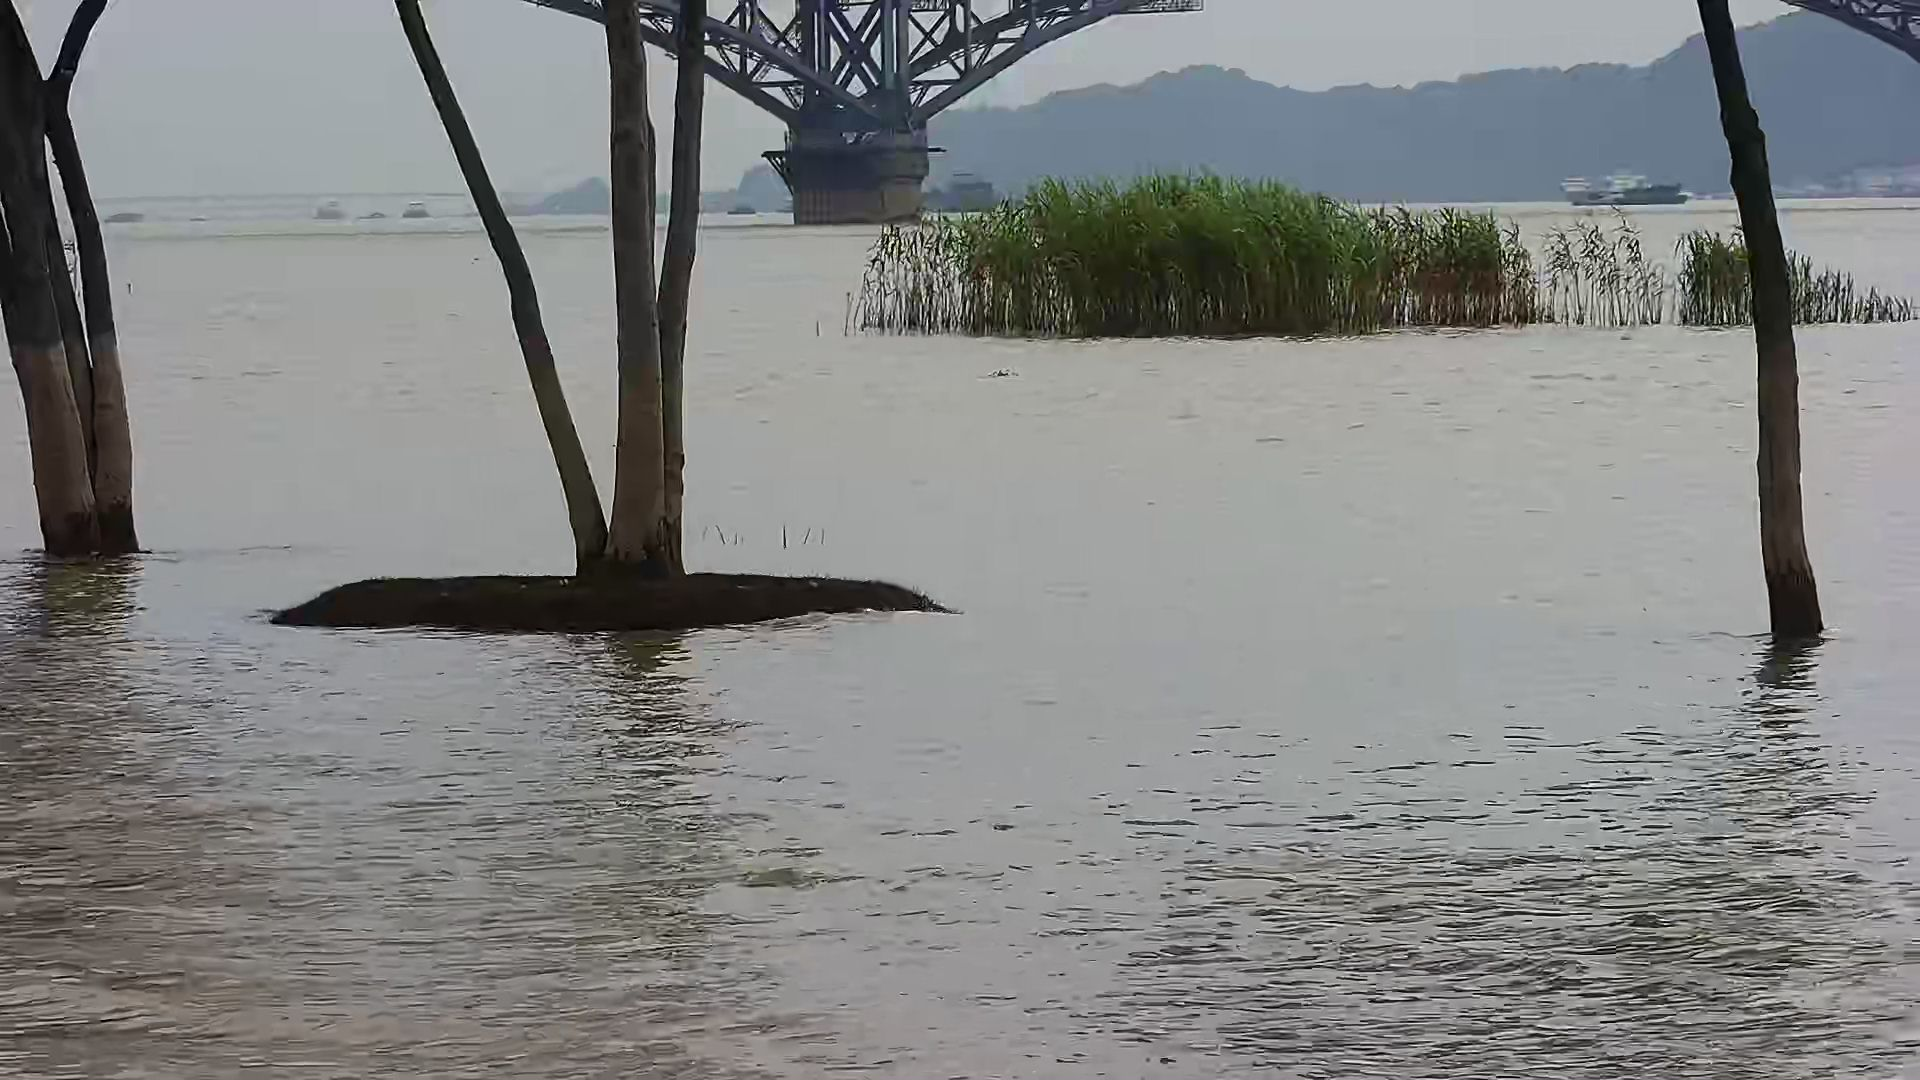boat: (721, 191, 767, 224)
bridge: (501, 1, 1197, 227)
grass: (829, 160, 1920, 352)
ship: (1530, 160, 1701, 219)
tree: (243, 1, 957, 632), (1640, 1, 1869, 666), (1, 1, 164, 578)
